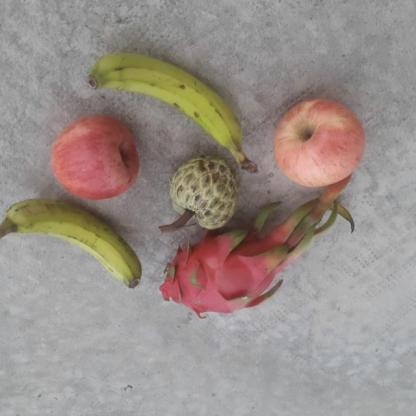annona: (155, 152, 240, 234)
apple: (270, 90, 366, 187), (50, 113, 142, 201)
banana: (83, 48, 260, 174), (0, 198, 143, 291)
pitaya: (159, 221, 286, 318)
